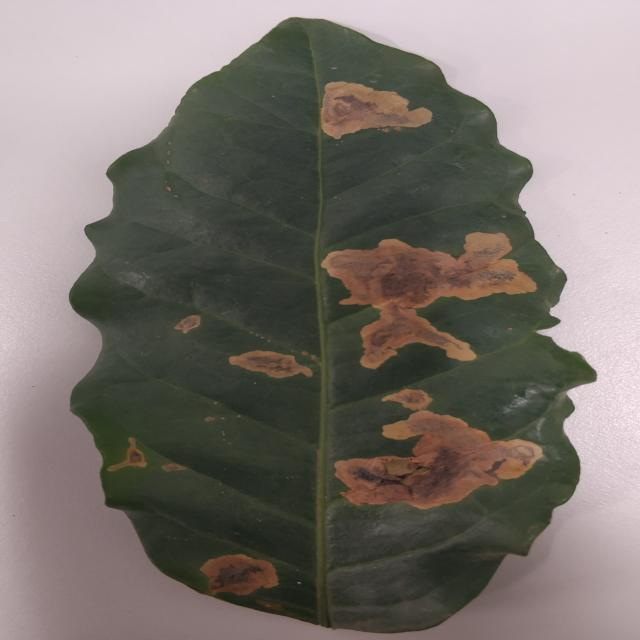Plaga-Minador: (68, 17, 596, 636)
